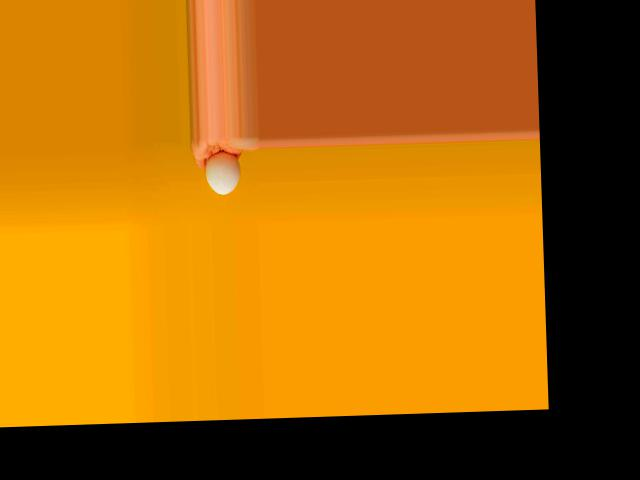egg: (205, 150, 239, 195)
